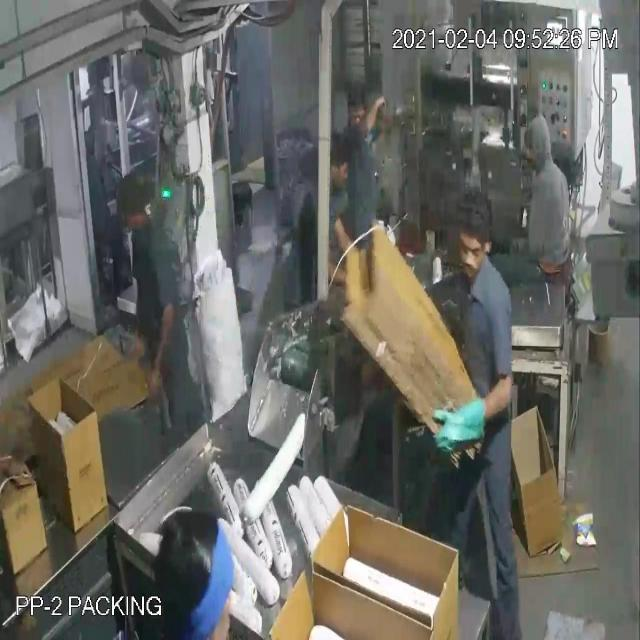No_Gloves: (28, 44, 463, 426)
